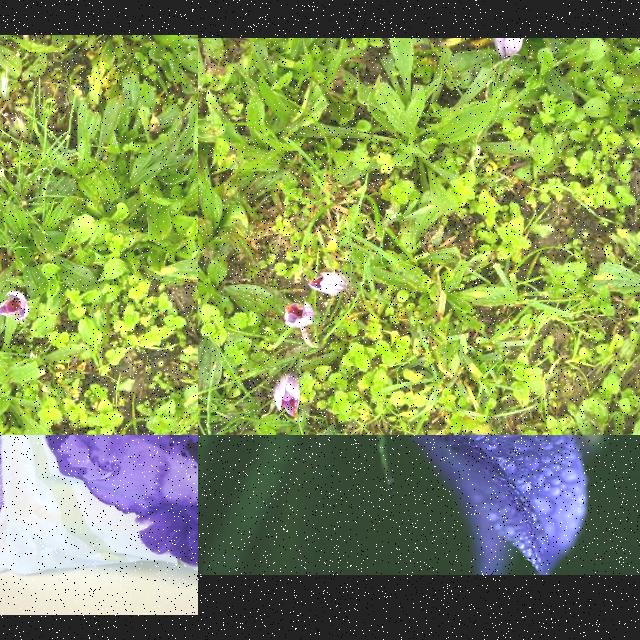flower: (276, 378, 302, 419), (0, 292, 28, 320), (286, 302, 312, 330), (309, 272, 341, 294)
